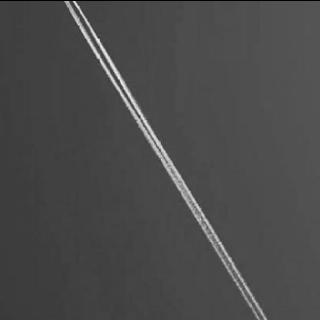Contrails: (1, 0, 292, 320)
